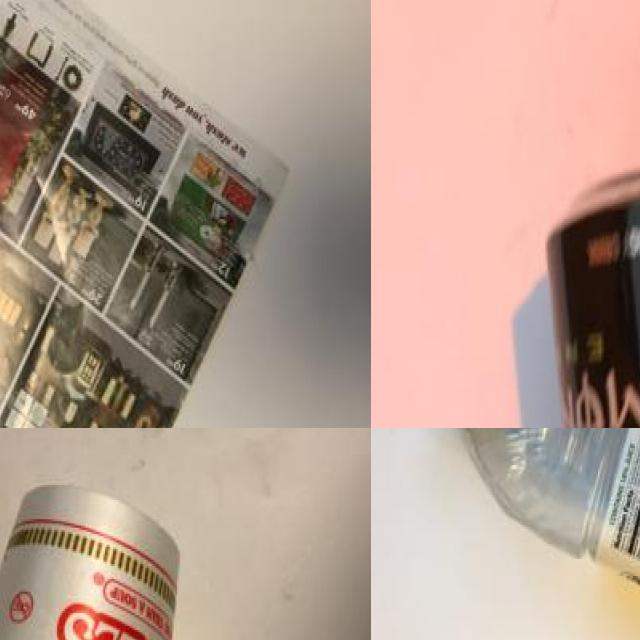paper: (0, 0, 273, 428)
plastic: (419, 428, 640, 640), (546, 159, 640, 428)
trash: (0, 472, 237, 640)
